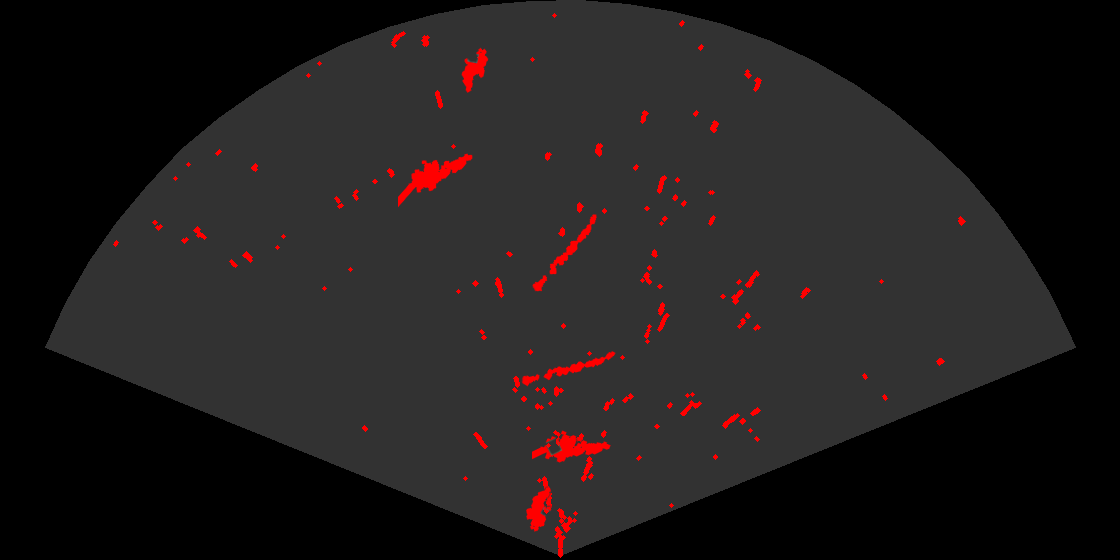AUV: (460, 46, 490, 94), (525, 486, 553, 533)
chain: (531, 213, 598, 293), (519, 350, 617, 388)
frogman: (398, 152, 474, 209), (532, 429, 612, 464)
